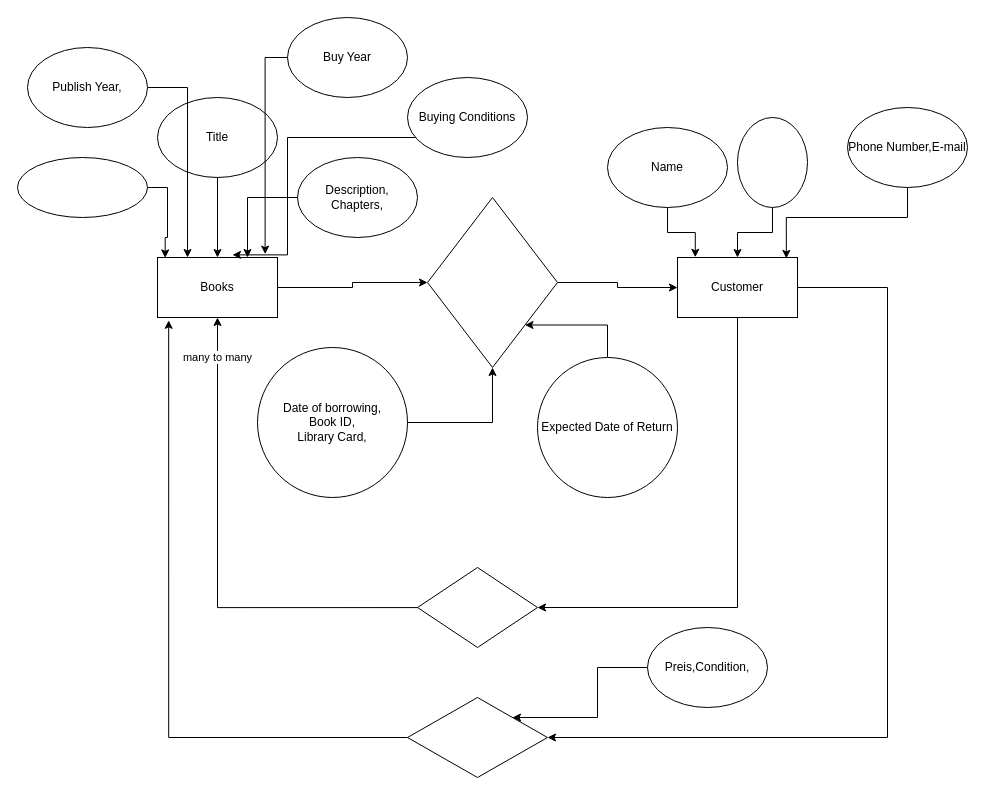
This 985x795 diagram has some shape labels left out. The centre of each missing label's shape, as x and y in pixels:
Adress: point (772, 162)
Author: point (82, 187)
Borow the Book: point (492, 282)
Buy The Book: point (477, 737)
Return the Book: point (477, 607)
